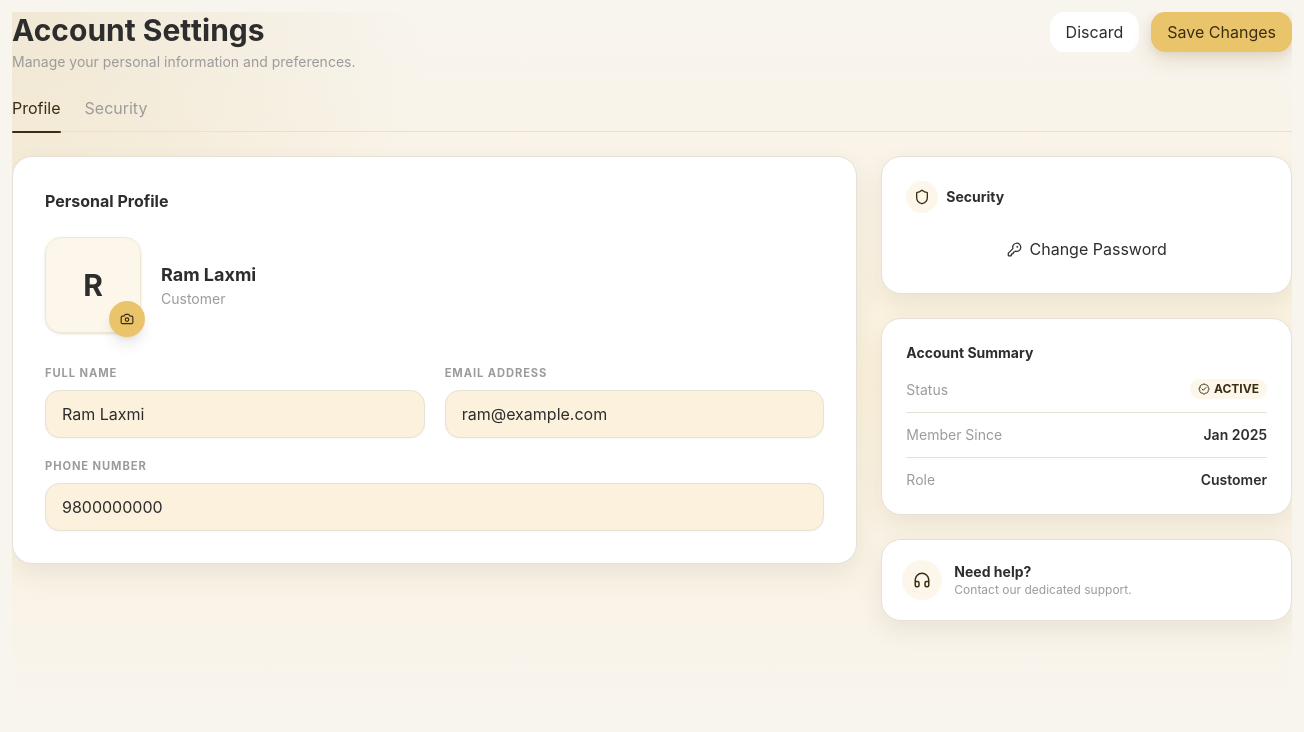
Scenario: customer dashboard navigation and profile › switches account settings between profile and security
The image size is (1304, 732).
Expected: the heading "Personal Profile" is shown, [45, 191, 168, 211]
Click the button "Security" at (116, 114), box [85, 96, 147, 132]
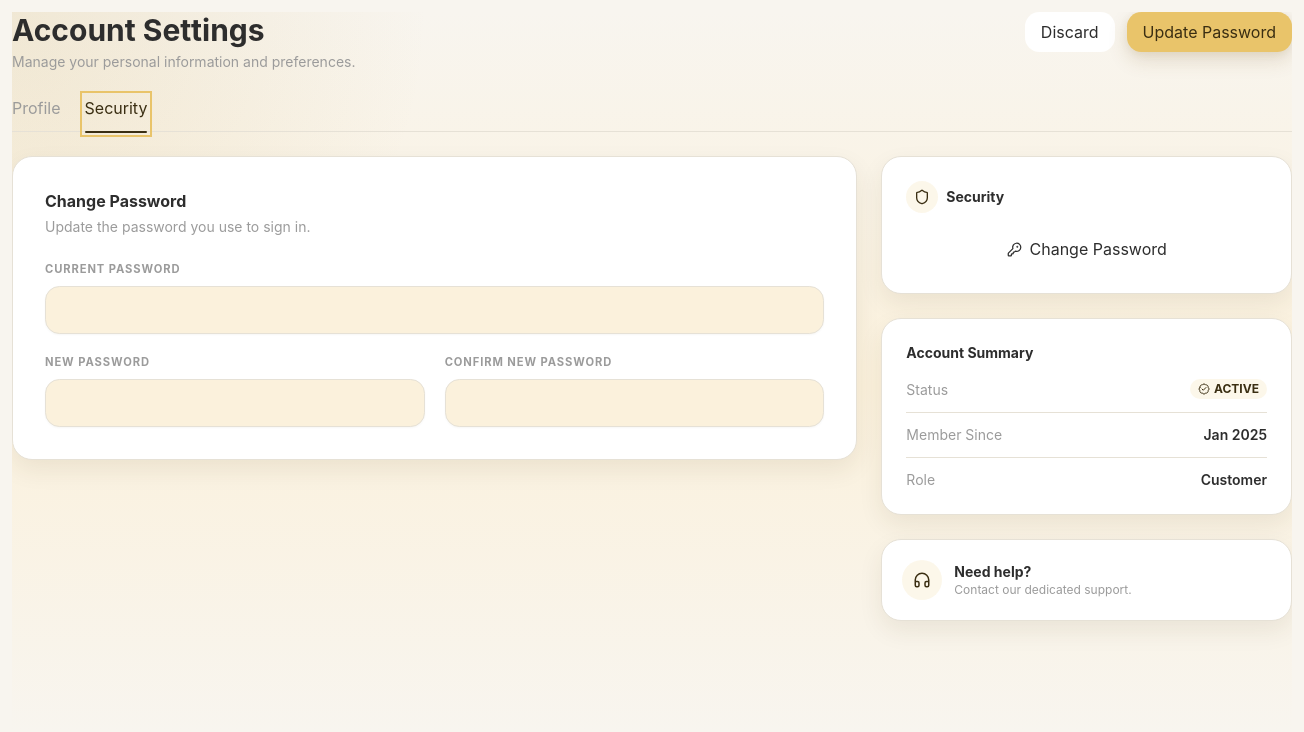
Expected: the text "New Password" is shown, [45, 355, 150, 369]
Expected: the text "Confirm New Password" is shown, [445, 355, 612, 369]
Expected: the button "Update Password" is shown, [1127, 12, 1292, 52]
